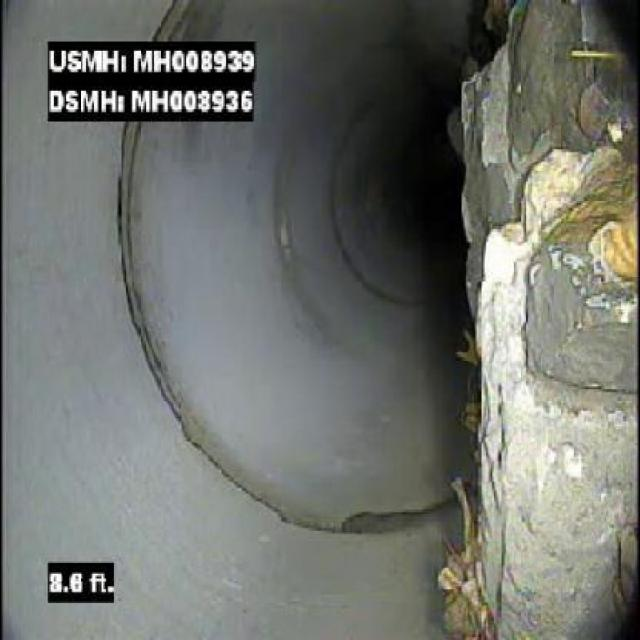Obstacle: (431, 46, 638, 639)
